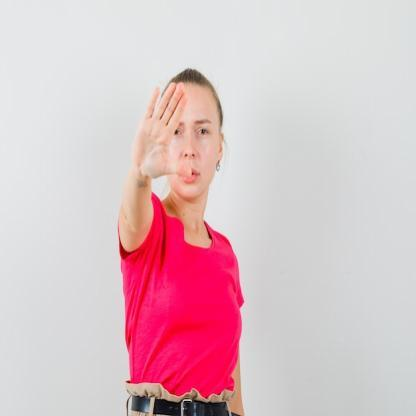stop: (130, 81, 194, 182)
